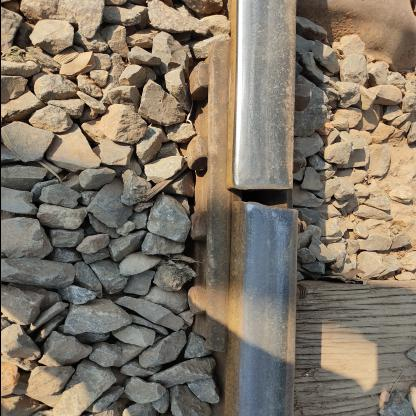Defective: (186, 150, 312, 268)
